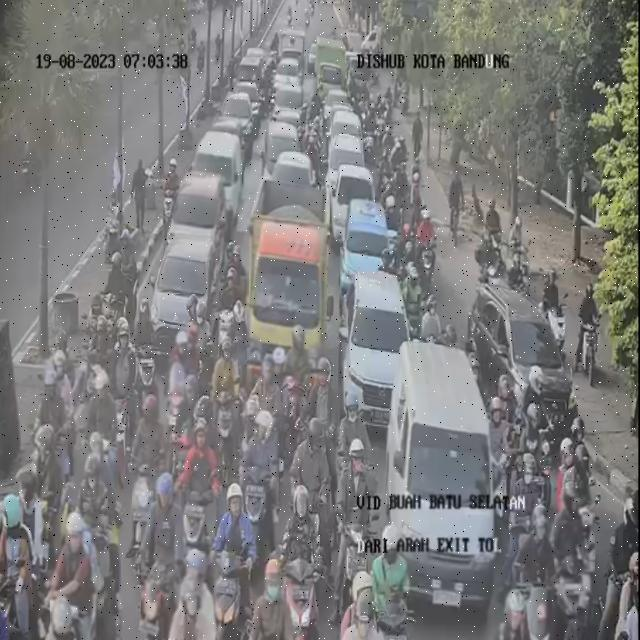bunch of motorcycle: (1, 350, 121, 640)
cars: (391, 343, 500, 620), (247, 212, 327, 383), (469, 290, 572, 422), (339, 266, 411, 430), (150, 227, 218, 354), (339, 197, 392, 309), (254, 152, 318, 238), (172, 170, 229, 260), (192, 132, 242, 224), (330, 164, 375, 240), (599, 566, 638, 639), (326, 135, 366, 196), (260, 120, 298, 181), (207, 114, 250, 167), (227, 88, 261, 152), (327, 110, 365, 166), (275, 80, 304, 140), (276, 56, 306, 99), (237, 77, 266, 116), (325, 89, 354, 125)
motorcycle: (275, 486, 322, 639), (209, 485, 254, 640), (50, 514, 104, 638), (552, 489, 595, 639), (141, 477, 181, 638), (0, 483, 36, 638), (512, 508, 554, 640), (240, 404, 279, 545), (161, 551, 221, 638), (178, 425, 214, 559), (132, 394, 172, 514), (291, 425, 329, 520), (82, 368, 116, 471), (254, 566, 299, 640), (210, 341, 238, 457), (165, 325, 198, 413), (491, 584, 538, 640), (217, 251, 241, 357), (576, 284, 600, 388), (416, 203, 440, 295), (152, 477, 178, 559), (543, 268, 568, 350), (422, 294, 452, 349), (229, 246, 249, 310)
truck: (315, 38, 352, 104)
